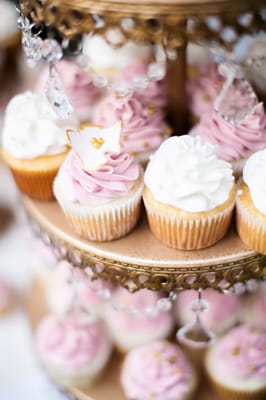sushi: (52, 123, 145, 242), (142, 137, 239, 250), (1, 94, 78, 201), (33, 303, 115, 394), (99, 286, 176, 357), (201, 323, 266, 400), (235, 149, 266, 256)
